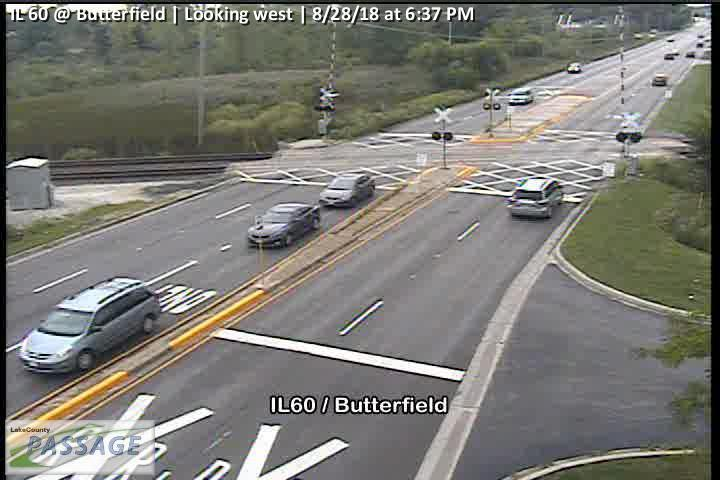SUV: (18, 275, 161, 375), (510, 176, 564, 219)
Sedan: (247, 203, 320, 250), (318, 174, 375, 210), (508, 89, 533, 105), (567, 62, 582, 73)
